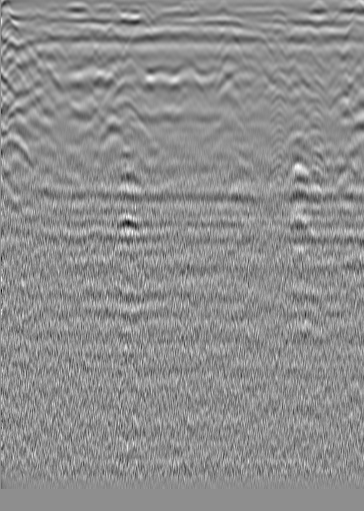가스: (109, 212, 141, 240)
상수: (31, 24, 51, 44)
오수: (299, 26, 319, 46)
우수: (158, 20, 178, 40)
